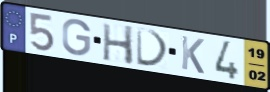4: (213, 39, 241, 82)
5: (28, 10, 57, 53)
D: (135, 26, 171, 69)
G: (61, 18, 93, 58)
H: (101, 22, 135, 67)
K: (180, 34, 206, 76)
